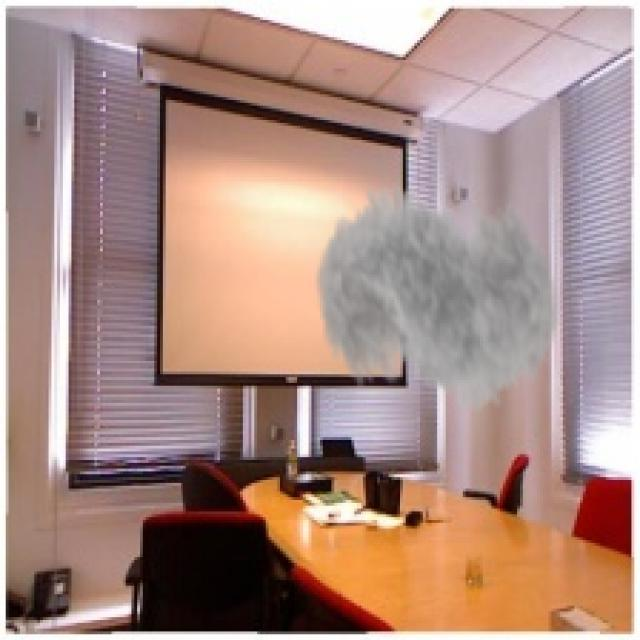Smoke: (314, 154, 560, 434)
